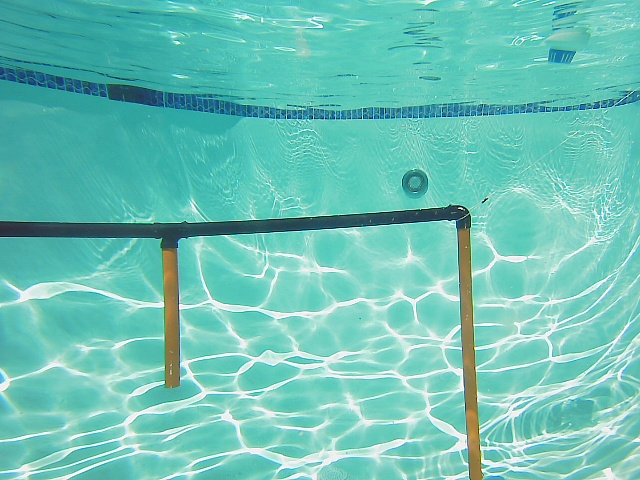Gate: (456, 226, 487, 478), (160, 243, 182, 389)
